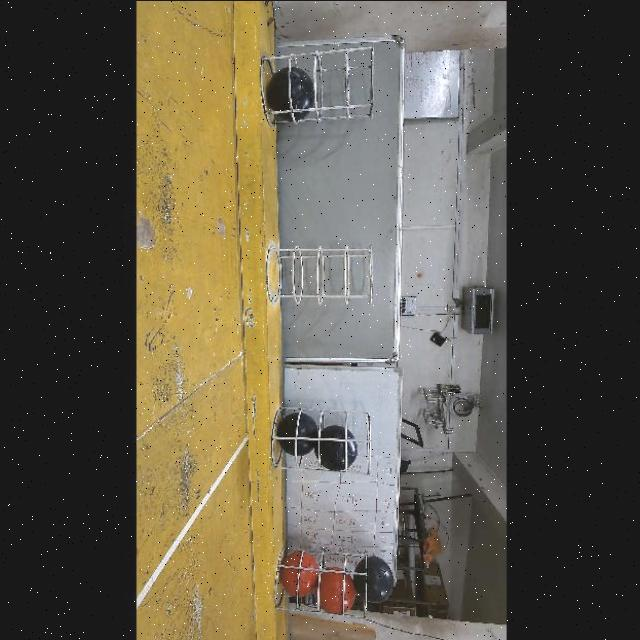P: (266, 67, 312, 115), (316, 424, 360, 471), (354, 554, 394, 602), (277, 412, 320, 455)
R: (281, 550, 320, 597), (320, 566, 357, 614)
S: (259, 48, 383, 124), (275, 548, 379, 618), (266, 246, 378, 300), (276, 411, 374, 472)
